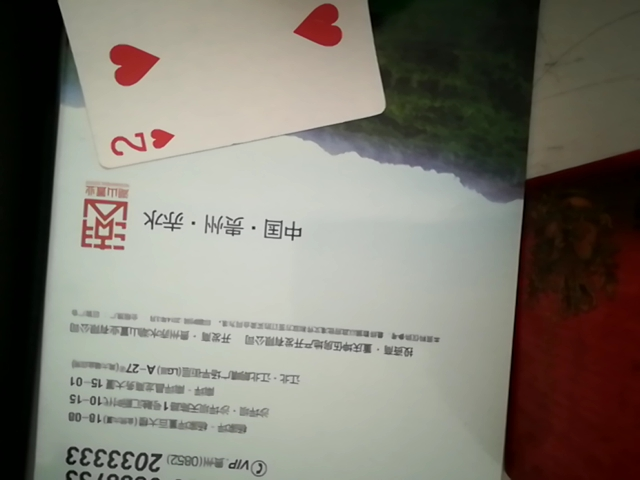hx 2: (69, 0, 387, 162)
